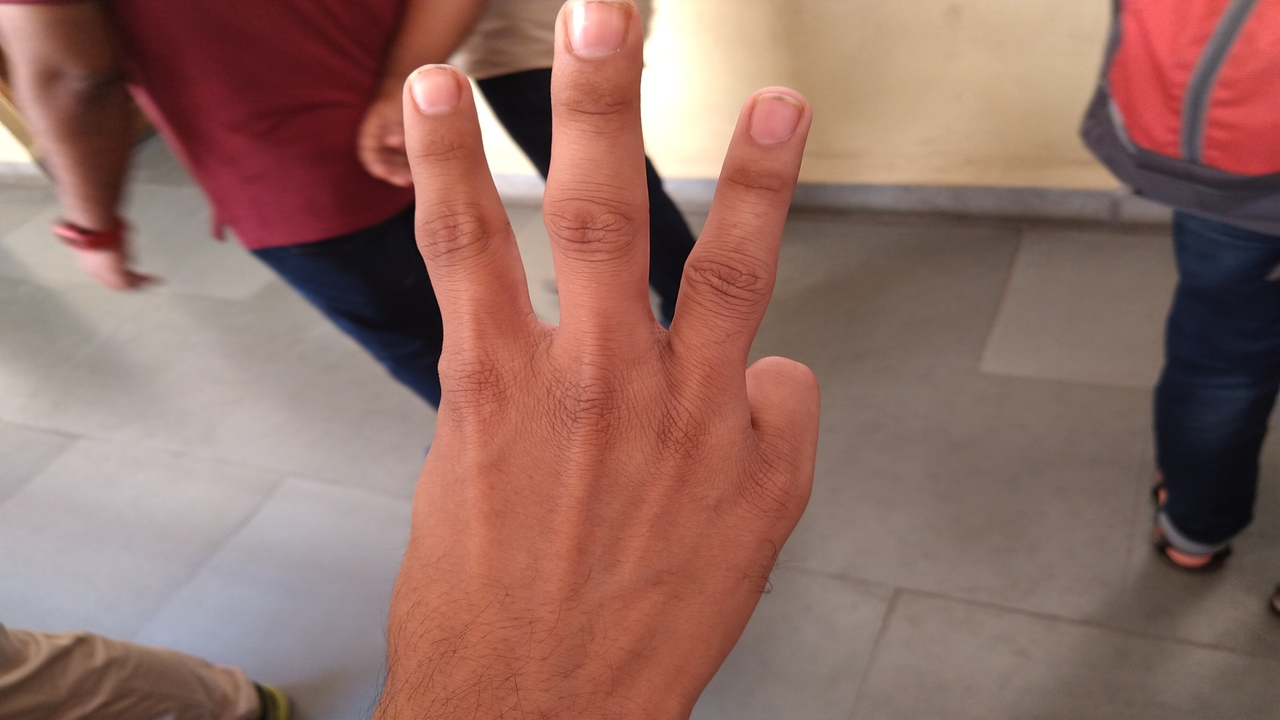fingertip: (542, 0, 640, 66), (730, 84, 820, 148), (394, 58, 470, 128)
